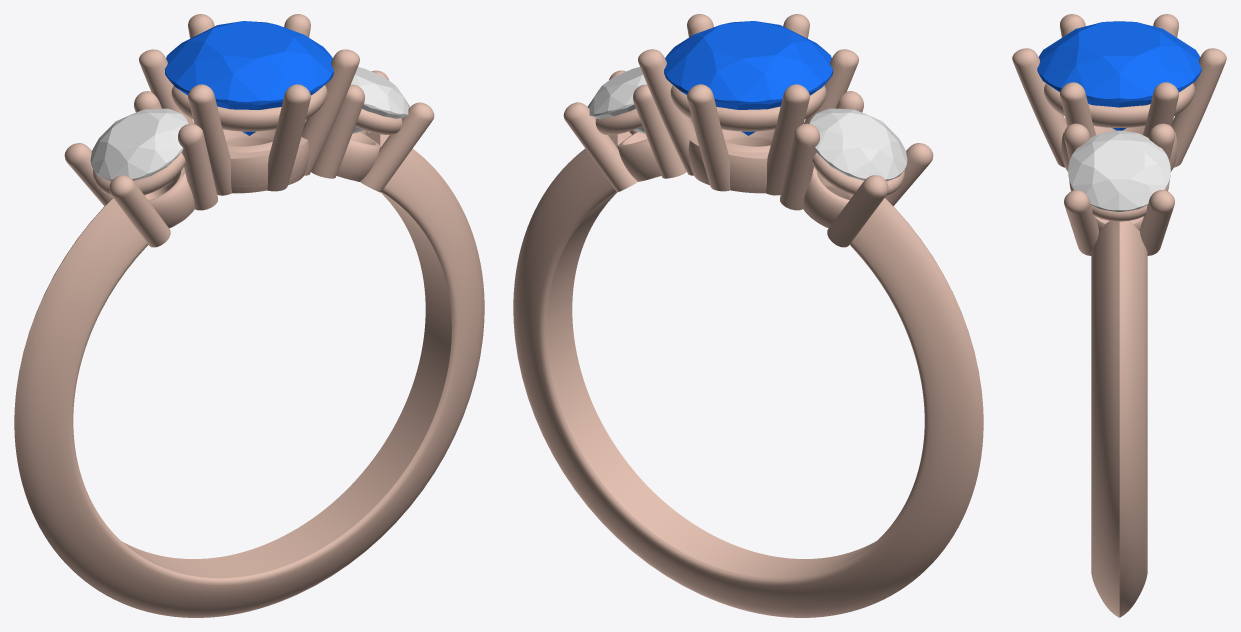
Rendered from bluesapphire-round-rosegold-6prong-knifeedge-2stone.glb.
3 views of the same model, side by side, from view 1: azimuth 30°, elevation 25°; view 2: azimuth 150°, elevation 25°; view 3: azimuth 270°, elevation 25° (orthographic). The views are drawn at different scales.
Visible parts, largest first — view 1: metal, stone, side.001, side; view 2: metal, stone, side.001, side; view 3: metal, stone, side.
Boxes of the visible parts, x1,y1,x2,y2 form: metal: (14, 14, 484, 617); stone: (164, 21, 333, 135); side.001: (90, 108, 188, 181); side: (351, 67, 409, 133); metal: (513, 14, 983, 617); stone: (664, 21, 833, 135); side.001: (809, 108, 907, 181); side: (587, 67, 646, 133); metal: (1012, 14, 1226, 617); stone: (1037, 21, 1201, 130); side: (1068, 130, 1170, 211).
Size of the model in its own units: 20.5 by 23.81 by 8.35.
